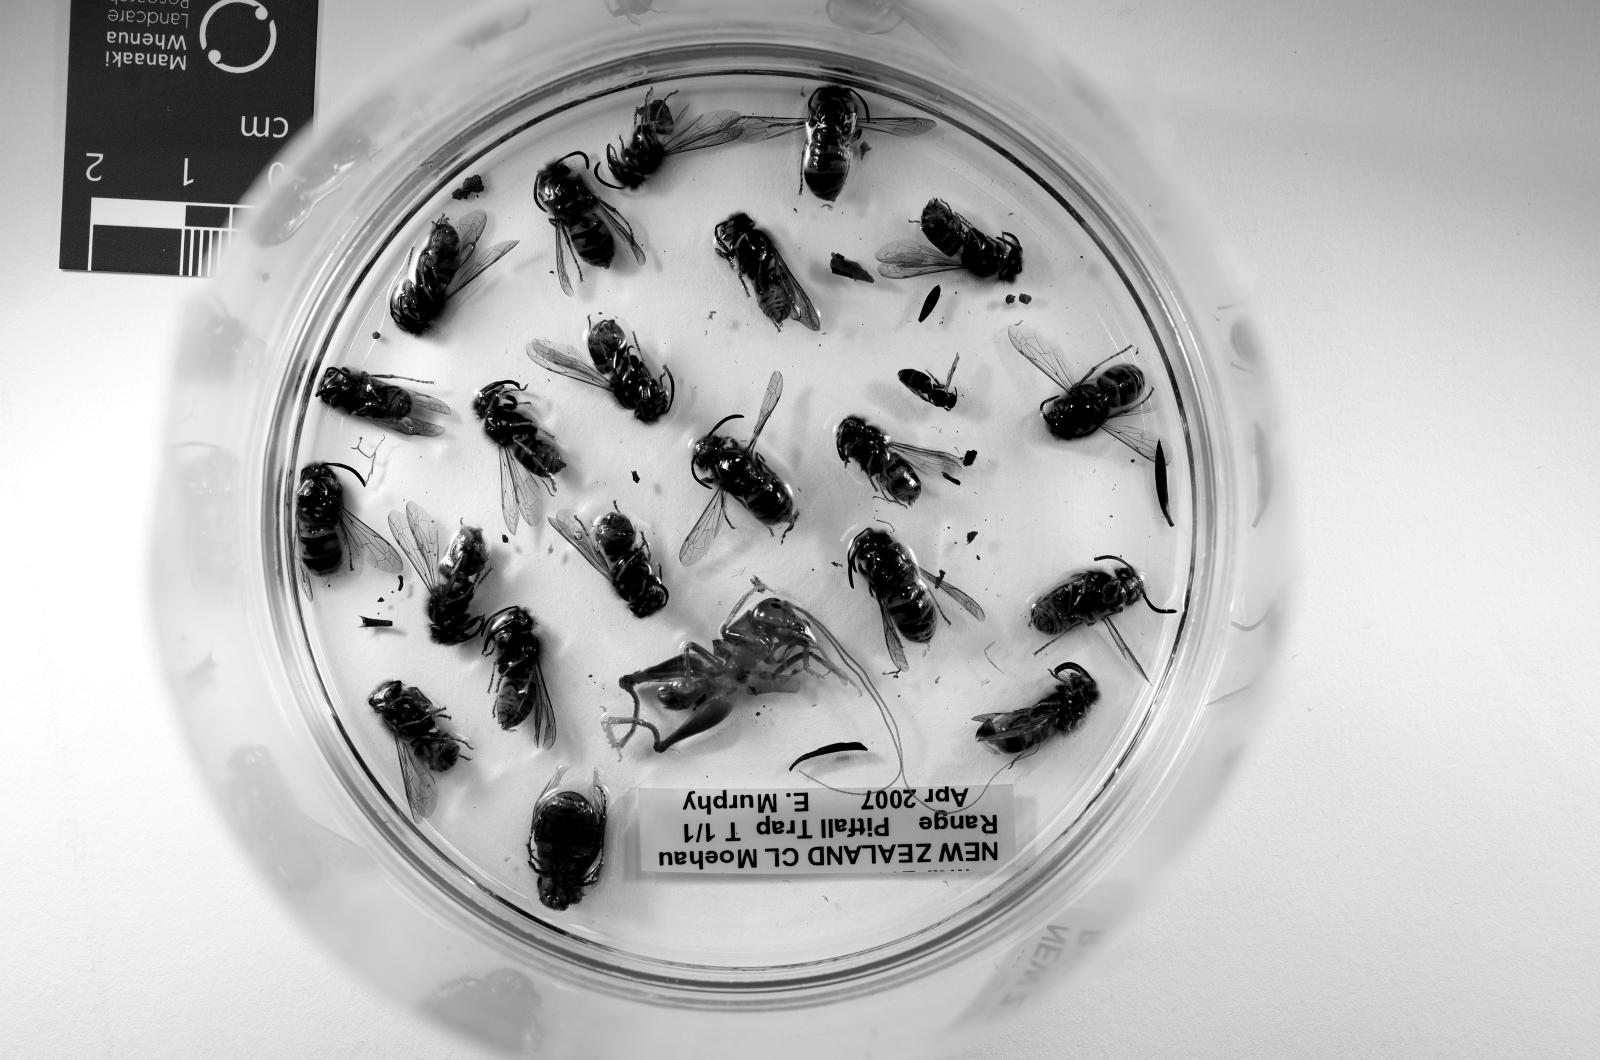coleoptera: (528, 767, 606, 910)
hymenoptera: (897, 354, 959, 410)
orthoptera: (603, 596, 850, 755)
vespidae: (681, 373, 797, 565), (744, 87, 934, 202), (1006, 326, 1159, 463), (847, 528, 984, 671), (1031, 556, 1175, 677), (534, 152, 644, 295), (391, 211, 516, 332), (528, 320, 675, 422), (388, 503, 491, 646), (472, 379, 566, 531), (606, 90, 744, 189), (369, 680, 466, 820), (297, 463, 403, 590), (550, 506, 669, 618), (712, 214, 819, 332), (875, 199, 1022, 283), (838, 416, 966, 506), (972, 665, 1100, 755), (484, 606, 556, 748), (316, 366, 450, 435)
